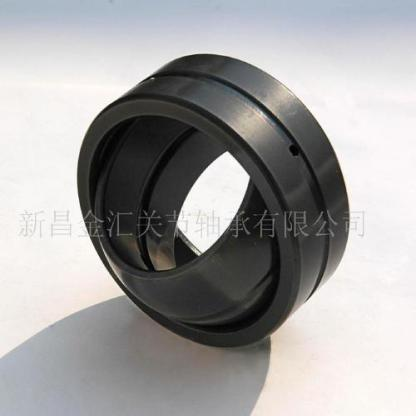FOD: (67, 50, 354, 363)
